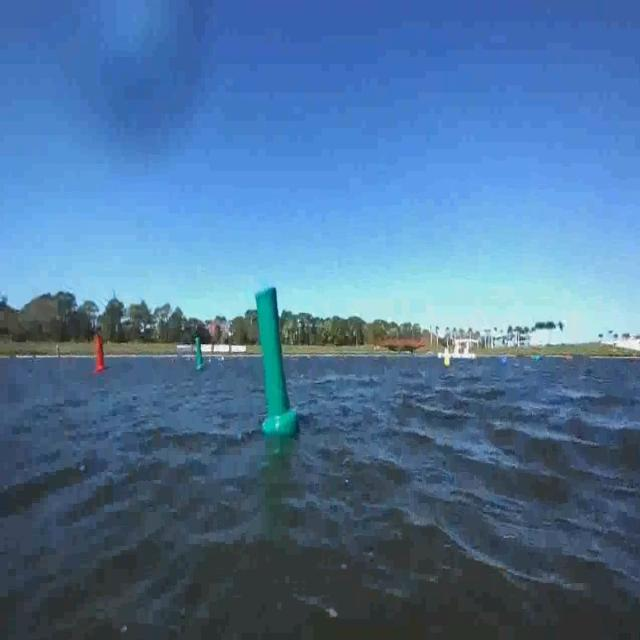blue-buoy: (499, 355, 508, 368)
green-buoy: (537, 353, 543, 363)
green-column-buoy: (256, 282, 298, 436), (196, 336, 207, 371)
red-column-buoy: (92, 335, 105, 373)
yellow-buoy: (445, 355, 452, 369)
